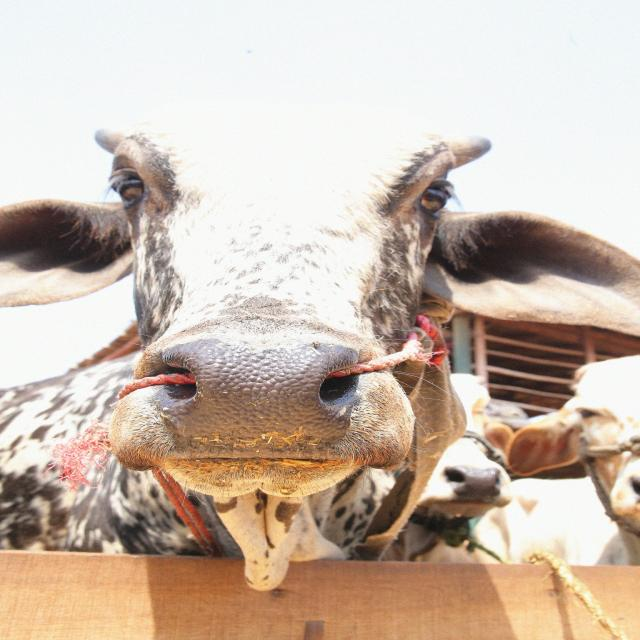muzzles: (136, 331, 374, 464)
